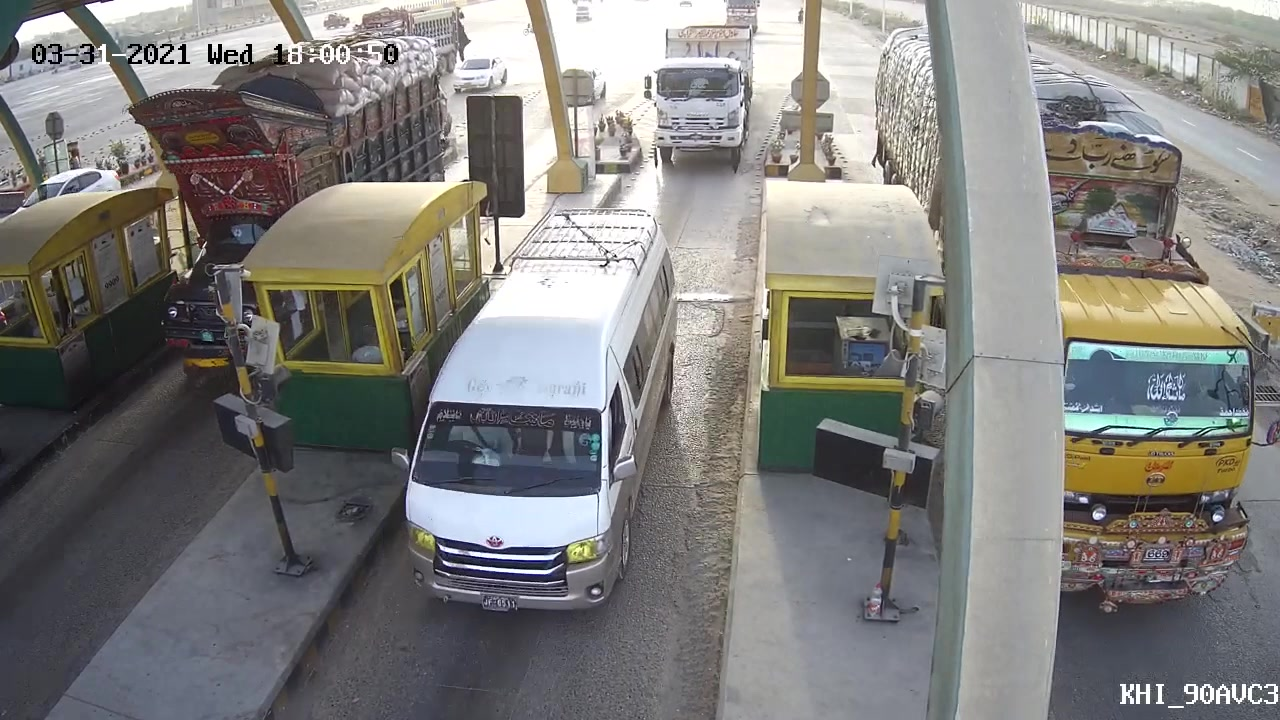F2: (387, 199, 689, 620)
